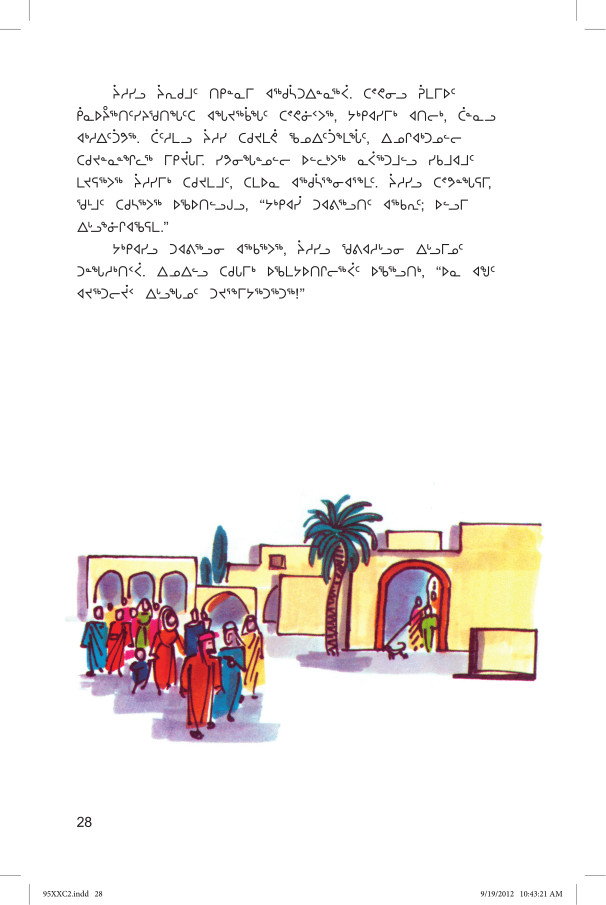inuktitut: (70, 79, 506, 309)
